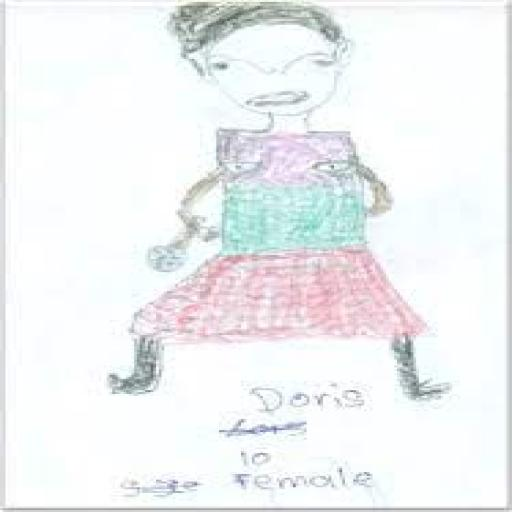person: (79, 0, 464, 423)
